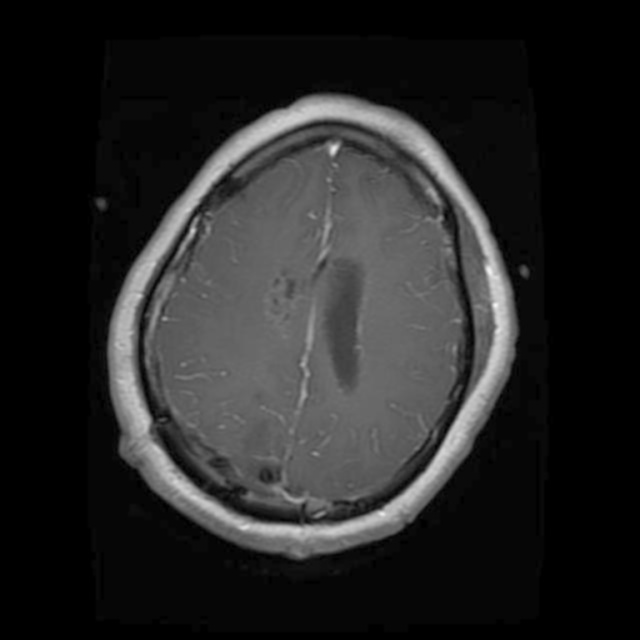pituitary tumor: (260, 270, 308, 324)
